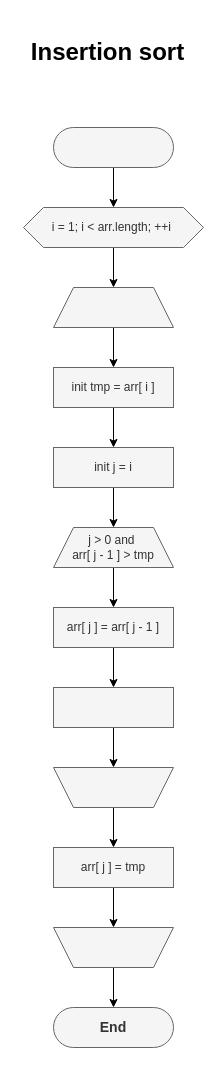
Image size: 221x1067. Some labels were removed from this diagram. Each missing label, with the centre of its shape:
decrement j: the point at 113,707
j < 1 or arr[ j - i ] <= tmp: the point at 113,787
Start: the point at 113,147
